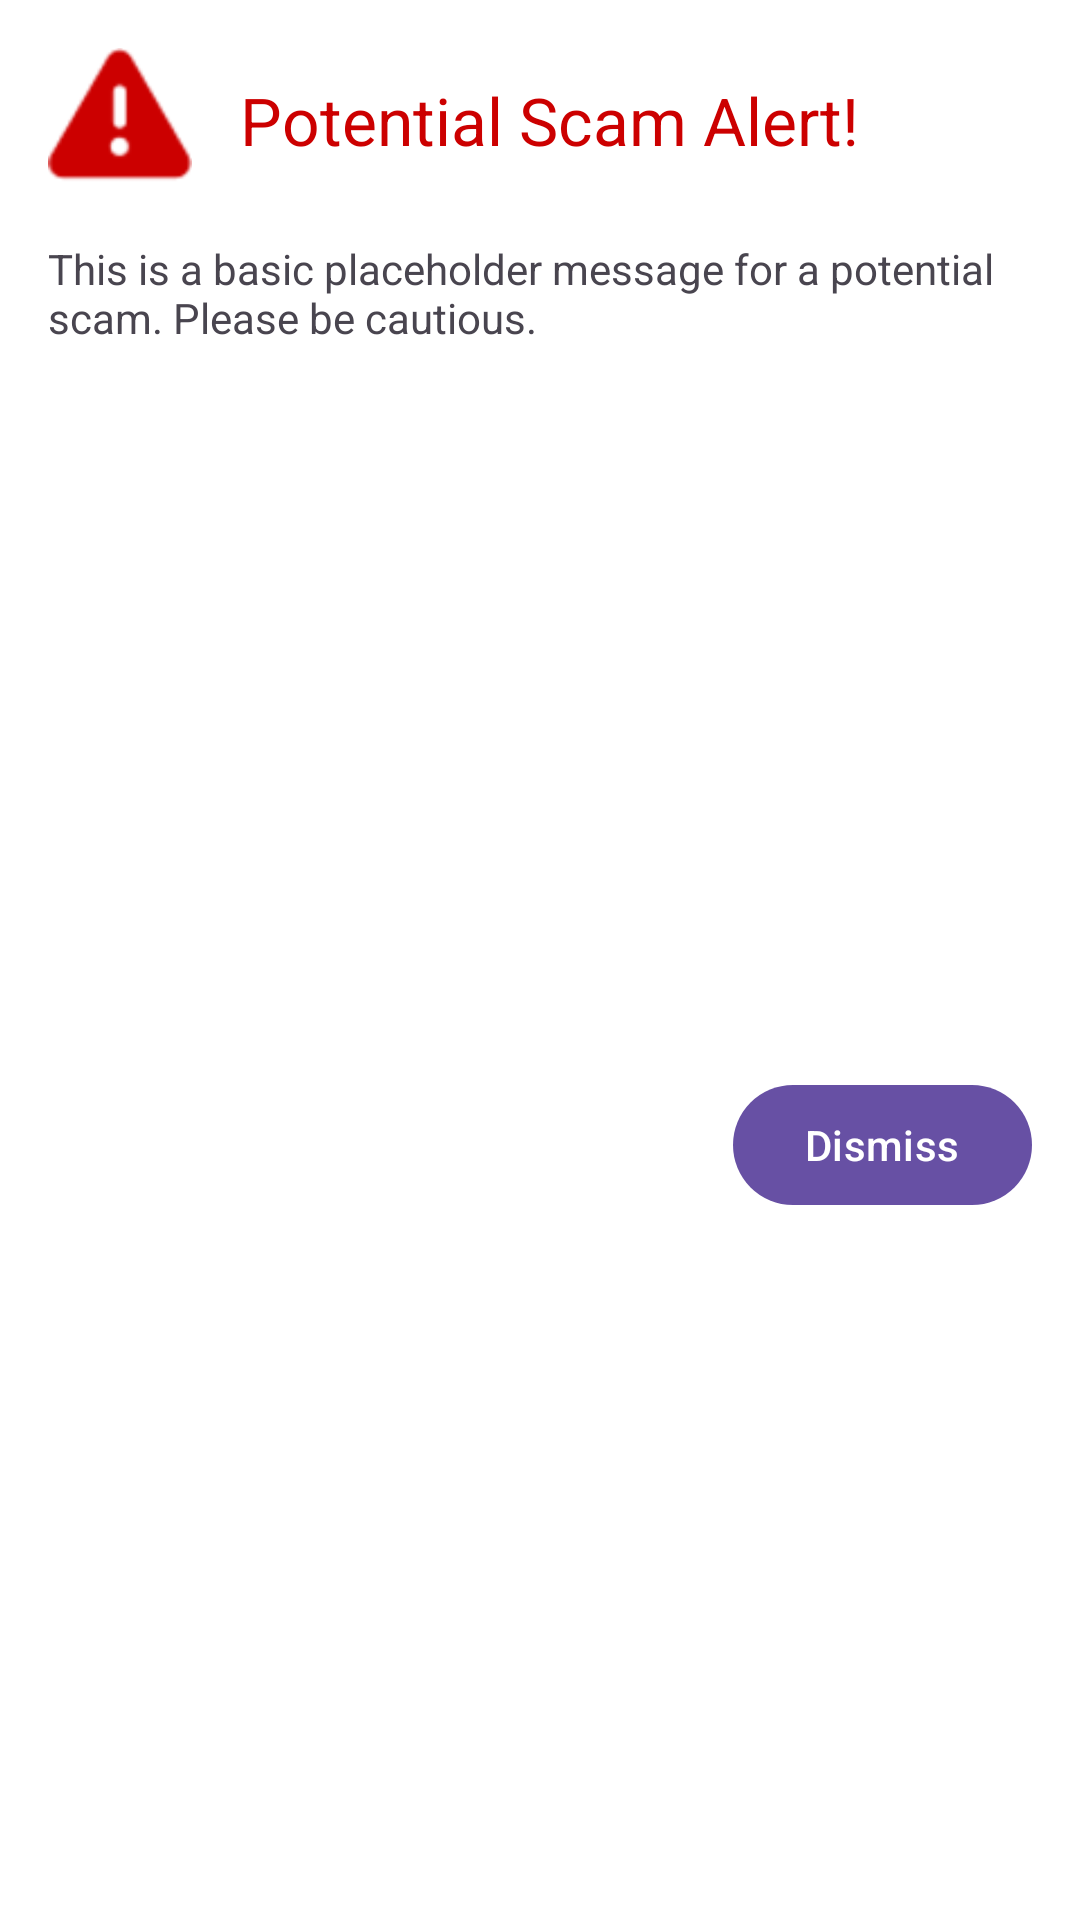

Icons on this 1080*1920 Android screen, each with its box as region(x1, y1, x2, y2):
Warning Icon: region(48, 48, 192, 180)
